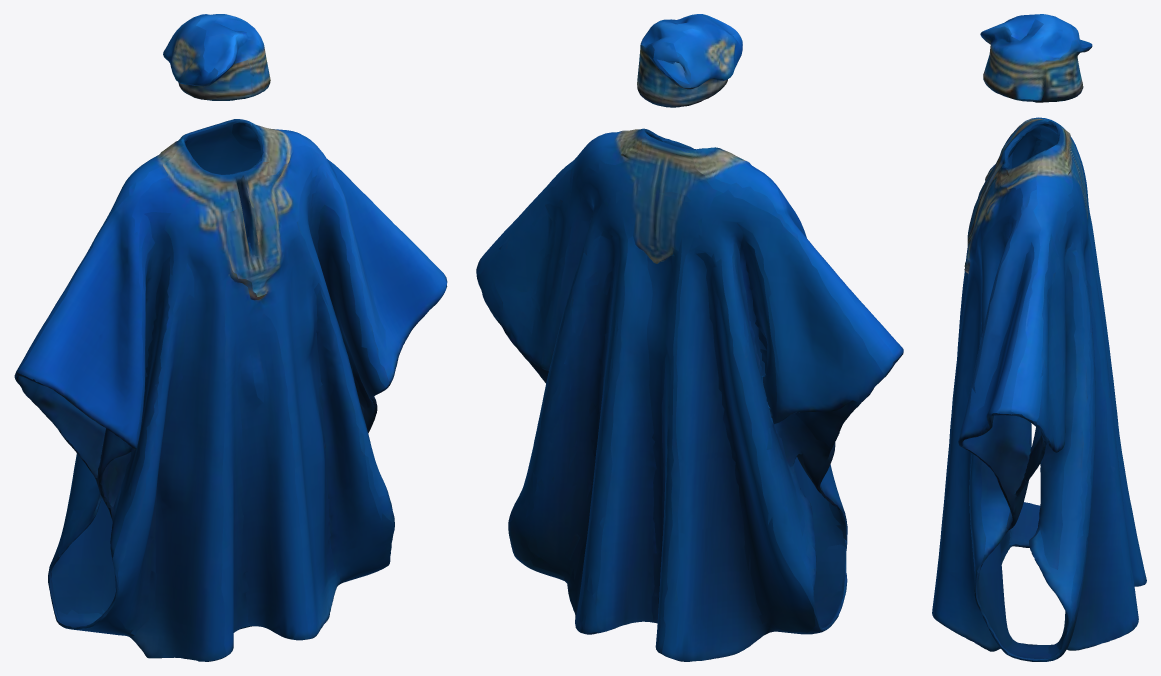
The model's file is agbada.glb.
3 views of the same model, side by side, from view 1: azimuth 30°, elevation 25°; view 2: azimuth 150°, elevation 25°; view 3: azimuth 270°, elevation 25° (orthographic). The views are drawn at different scales.
Visible parts, largest first — view 1: geometry_0; view 2: geometry_0; view 3: geometry_0.
Boxes of the visible parts, x1,y1,x2,y2 form: geometry_0: [14, 14, 447, 661]; geometry_0: [476, 14, 903, 661]; geometry_0: [932, 14, 1146, 661].
Size of the model in its own units: 3.33 by 4.54 by 1.5.
1 material, 1 textured.
